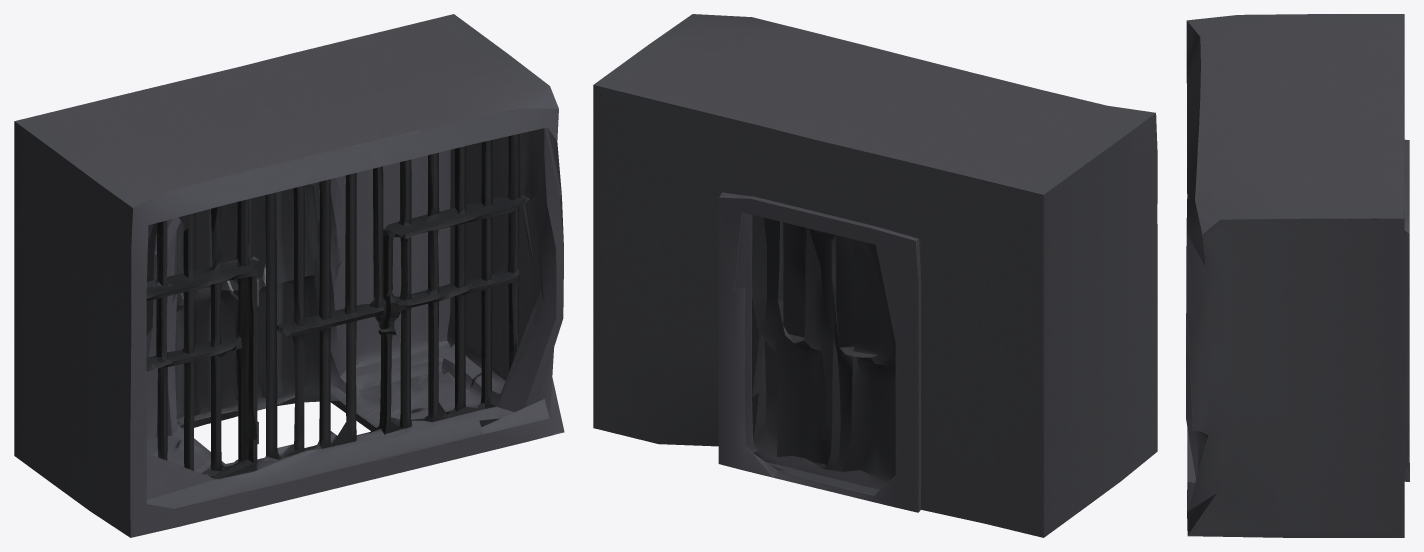
File: cell_front.glb
The picture shows the model from 3 angles, left to right: view 1: azimuth 30°, elevation 25°; view 2: azimuth 150°, elevation 25°; view 3: azimuth 270°, elevation 25°; orthographic projection. The views are drawn at different scales.
Parts seen in each view (by area): view 1: Mesh_0; view 2: Mesh_0; view 3: Mesh_0.
Part boxes in pixels (<box>): Mesh_0: <box>14,14,564,537</box>; Mesh_0: <box>593,14,1157,537</box>; Mesh_0: <box>1186,14,1409,537</box>.
Size of the model in its own units: 1.9 by 1.39 by 0.8774.
Materials: 1 (1 with a texture image).
